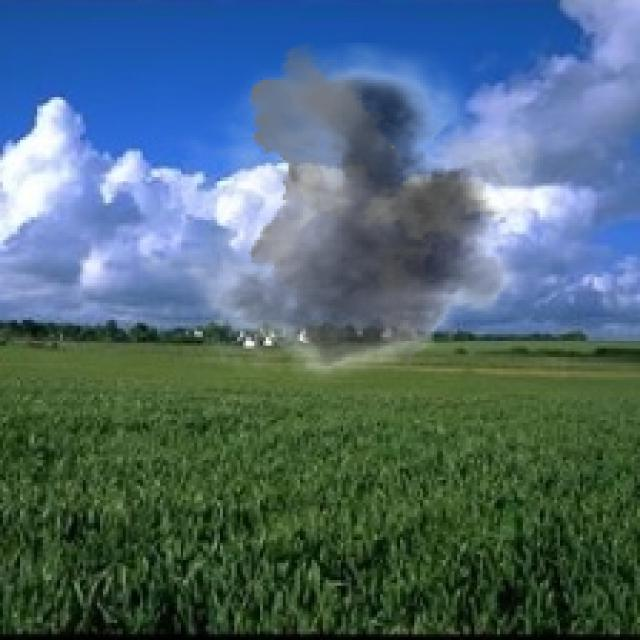smoke: (137, 43, 560, 397)
